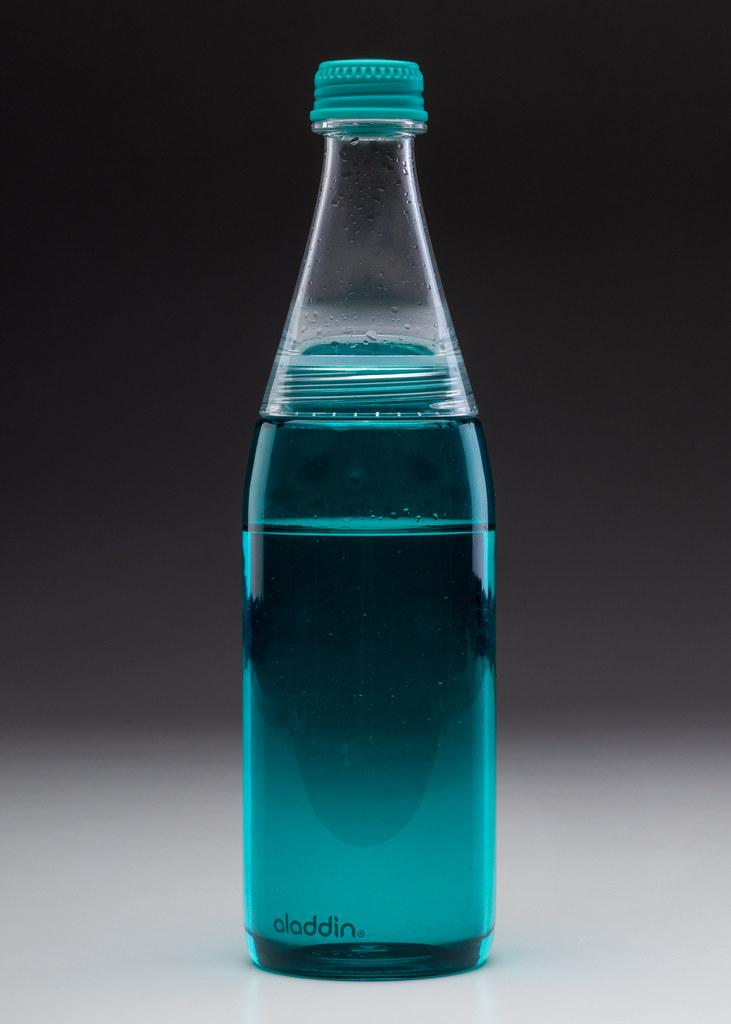bottle: (241, 58, 499, 981)
